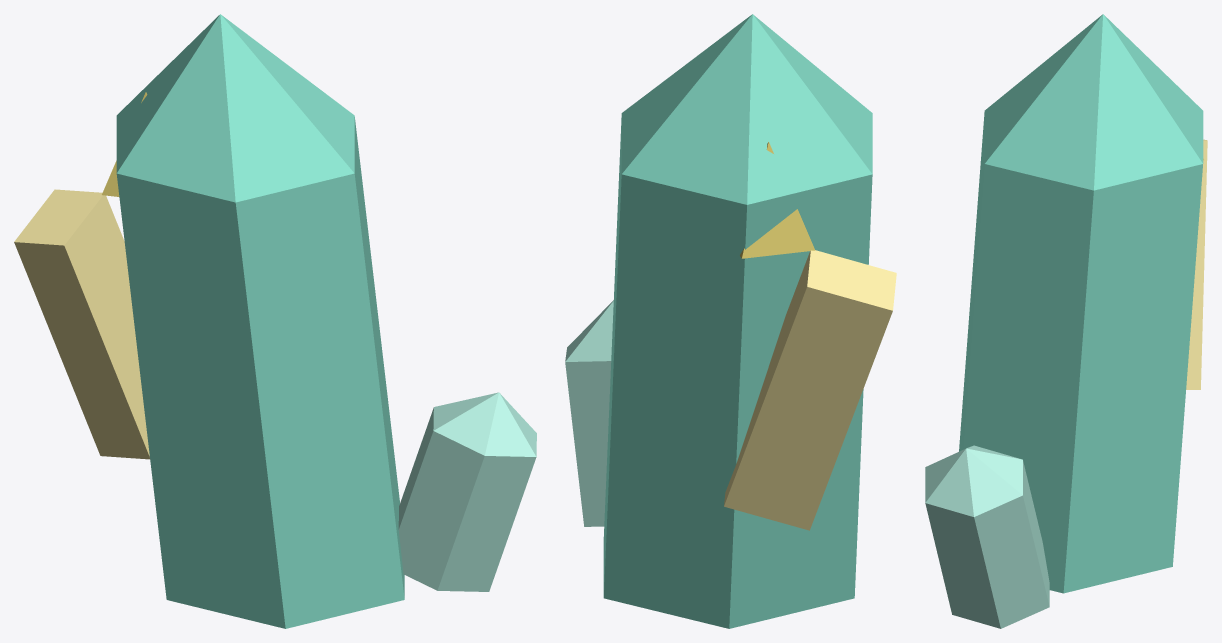
The model's file is cryst_volt_item_flat.glb.
3 views of the same model, side by side, from view 1: azimuth 30°, elevation 25°; view 2: azimuth 150°, elevation 25°; view 3: azimuth 270°, elevation 25° (orthographic). The views are drawn at different scales.
Parts seen in each view (by area): view 1: TealCrystal, BoltShard, SmallCrystal; view 2: TealCrystal, BoltShard, SmallCrystal, SparkTip; view 3: TealCrystal, SmallCrystal, BoltShard.
Part boxes in pixels (bbox=[...]): TealCrystal: bbox=[116, 14, 404, 628]; BoltShard: bbox=[14, 189, 149, 459]; SmallCrystal: bbox=[398, 392, 536, 591]; TealCrystal: bbox=[603, 14, 872, 628]; BoltShard: bbox=[724, 250, 896, 530]; SmallCrystal: bbox=[565, 300, 613, 526]; SparkTip: bbox=[740, 142, 815, 258]; TealCrystal: bbox=[959, 14, 1203, 593]; SmallCrystal: bbox=[925, 445, 1049, 628]; BoltShard: bbox=[1186, 139, 1207, 389].
Bounding box in the file's own units: 0.0352 × 0.0458 × 0.0226.
